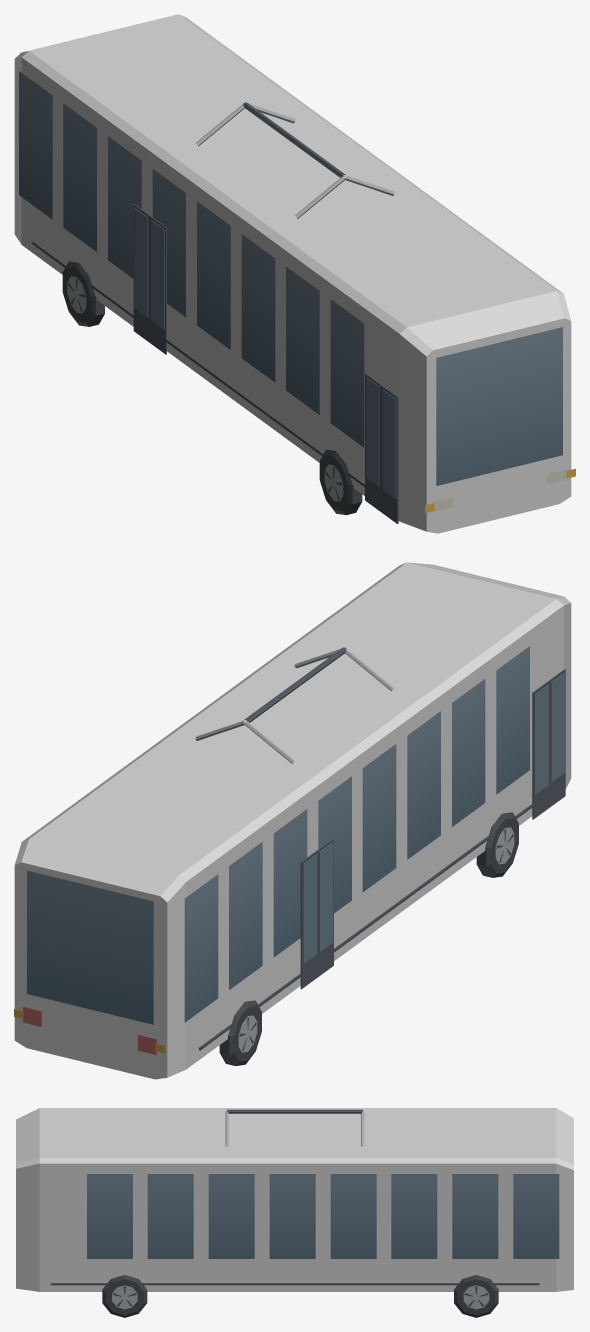
File: tram.glb
3 views of the same model, one above another, from view 1: azimuth 30°, elevation 25°; view 2: azimuth 150°, elevation 25°; view 3: azimuth 270°, elevation 25° (orthographic). The views are drawn at different scales.
Parts seen in each view (by area): view 1: body; view 2: body; view 3: body.
Boxes of the visible parts, left/top/right/bottom form: body: left=14, top=14, right=575, bottom=533; body: left=14, top=562, right=571, bottom=1079; body: left=16, top=1108, right=573, bottom=1317.
Size of the model in its own units: 2.29 by 3.37 by 9.53.
